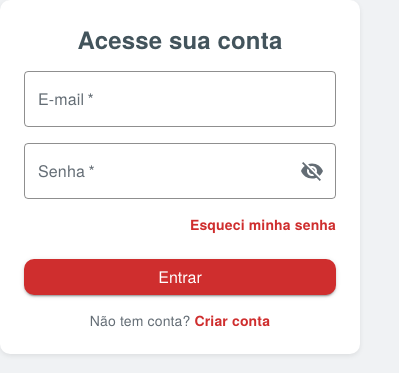
it: LandingLoginCard › should show an icon that reflects whether the password is visible
This screenshot has width=399, height=373.
Expected: the icon with test id "VisibilityOffIcon" is shown, [300, 159, 324, 183]
What coordinates should you click on to do the following:
click the button named "Mostrar ou ocultar senha"
I would click on:
 (312, 171)
Its box is [292, 151, 332, 191].
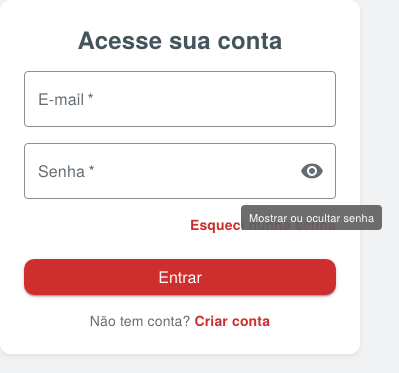
Expected: the icon with test id "VisibilityIcon" is shown, [300, 159, 324, 183]
